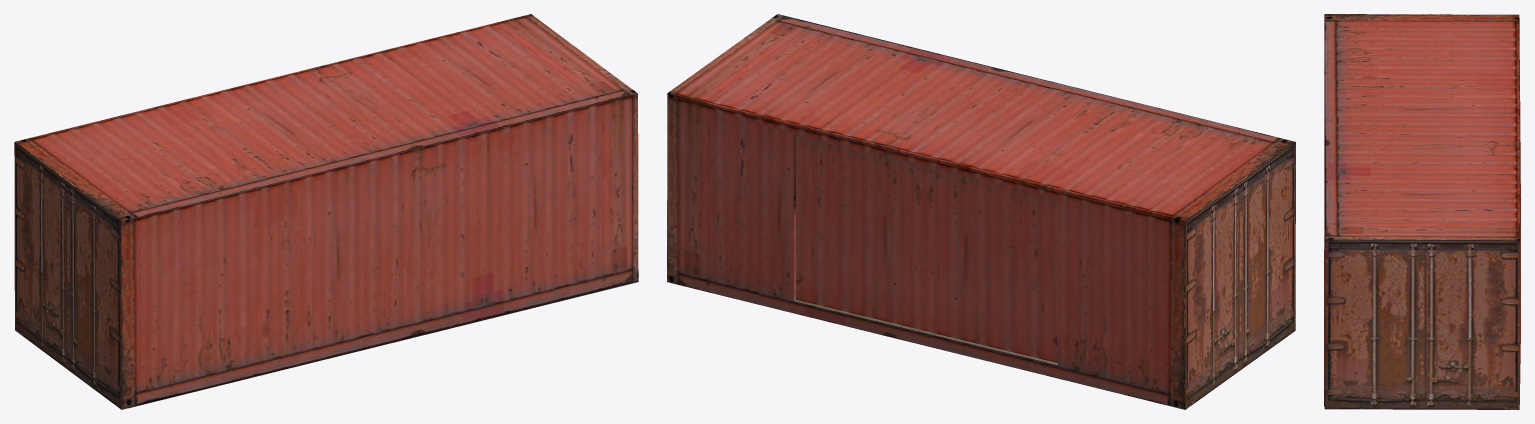
File: W13_Wagon.fbx
3 renders of one model, left to right at view 1: azimuth 30°, elevation 25°; view 2: azimuth 150°, elevation 25°; view 3: azimuth 270°, elevation 25°, orthographic. The views are drawn at different scales.
Visible parts, largest first — view 1: Train; view 2: Train, Plane, Plane.001; view 3: Train.
Boxes of the visible parts, x1=… form: Train: x1=14, y1=14, x2=638, y2=409; Train: x1=667, y1=14, x2=1295, y2=409; Plane: x1=796, y1=135, x2=927, y2=331; Plane.001: x1=927, y1=167, x2=1057, y2=362; Train: x1=1324, y1=14, x2=1520, y2=409.
Bounding box in the file's own units: 727 × 255 × 265.
